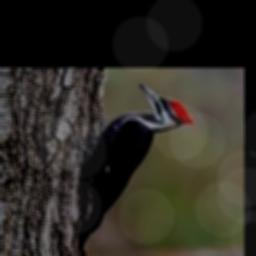Woodpecker: (73, 82, 195, 256)
